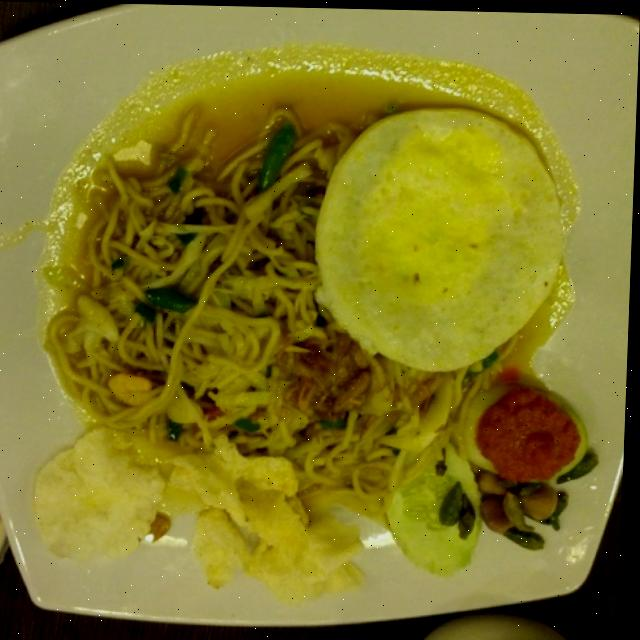面条主食: (0, 23, 625, 608)
